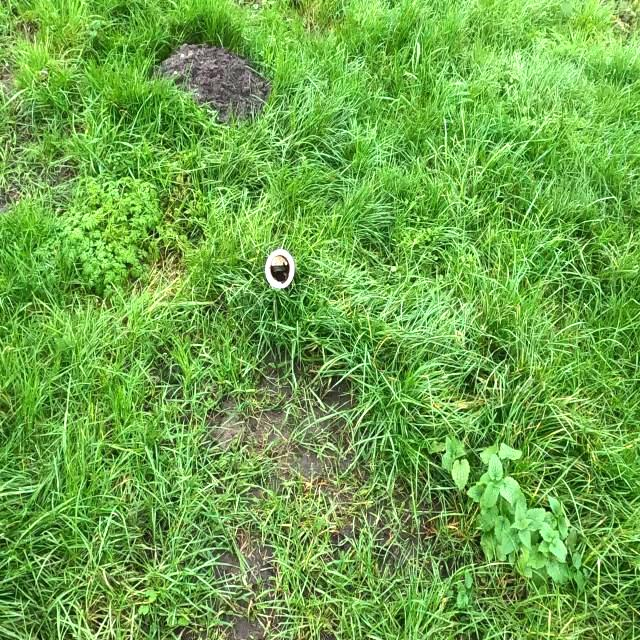Coffee Cup: (264, 248, 296, 290)
